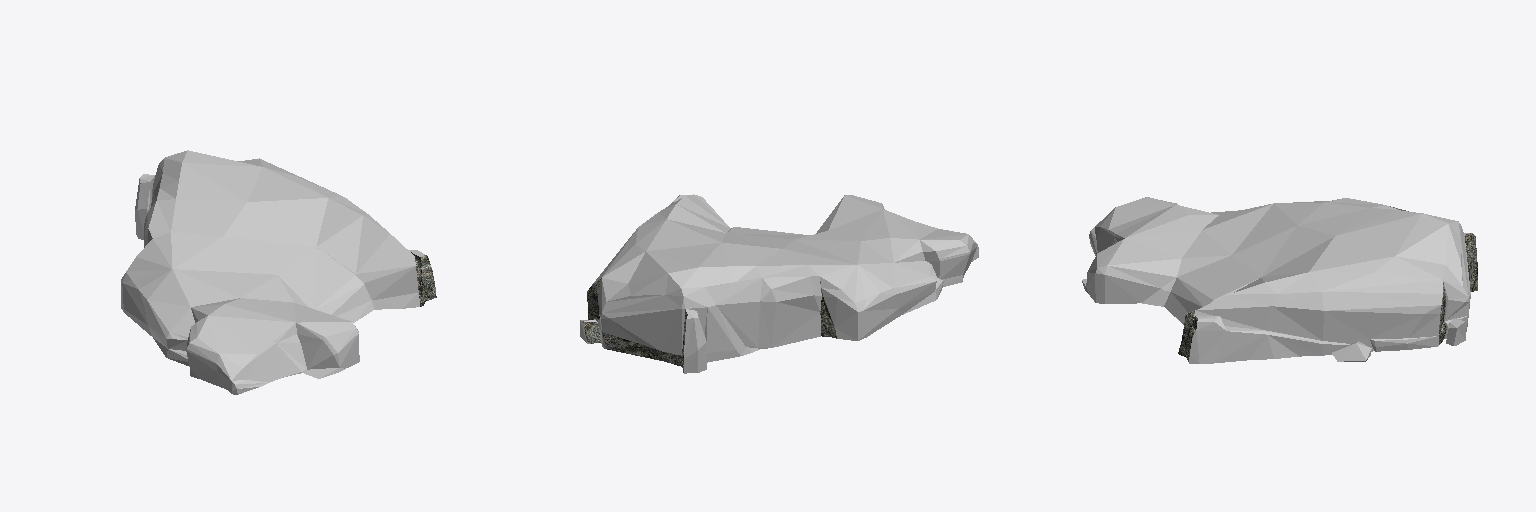
The picture shows the model from 3 angles: view 1: azimuth 30°, elevation 25°; view 2: azimuth 150°, elevation 25°; view 3: azimuth 270°, elevation 25°; orthographic projection.
Visible parts, largest first — view 1: outcropD; view 2: outcropD; view 3: outcropD.
Boxes of the visible parts, box(x1,y1,x2,y2) form: outcropD: box(121, 150, 436, 394); outcropD: box(580, 194, 978, 373); outcropD: box(1082, 197, 1477, 363).
Bounding box in the file's own units: 41.9 × 12.22 × 52.93.
2 materials, 1 textured.